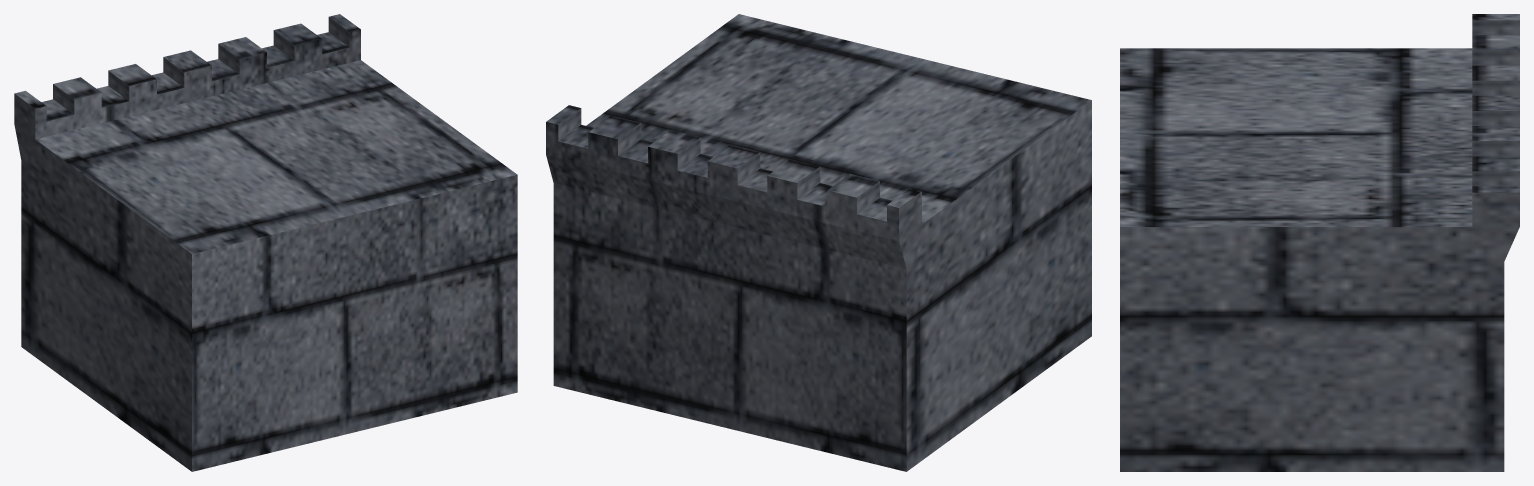
Rendered from Castle Wall One Sided_1.fbx.
The picture shows the model from 3 angles, left to right: view 1: azimuth 30°, elevation 25°; view 2: azimuth 150°, elevation 25°; view 3: azimuth 270°, elevation 25°; orthographic projection. The views are drawn at different scales.
Visible parts, largest first — view 1: Cube_001; view 2: Cube_001; view 3: Cube_001.
Part boxes in pixels (x1,y1,x2,y2): Cube_001: [14, 14, 517, 471]; Cube_001: [546, 14, 1091, 471]; Cube_001: [1120, 14, 1519, 471].
Bounding box in the file's own units: 660 × 481 × 624.
